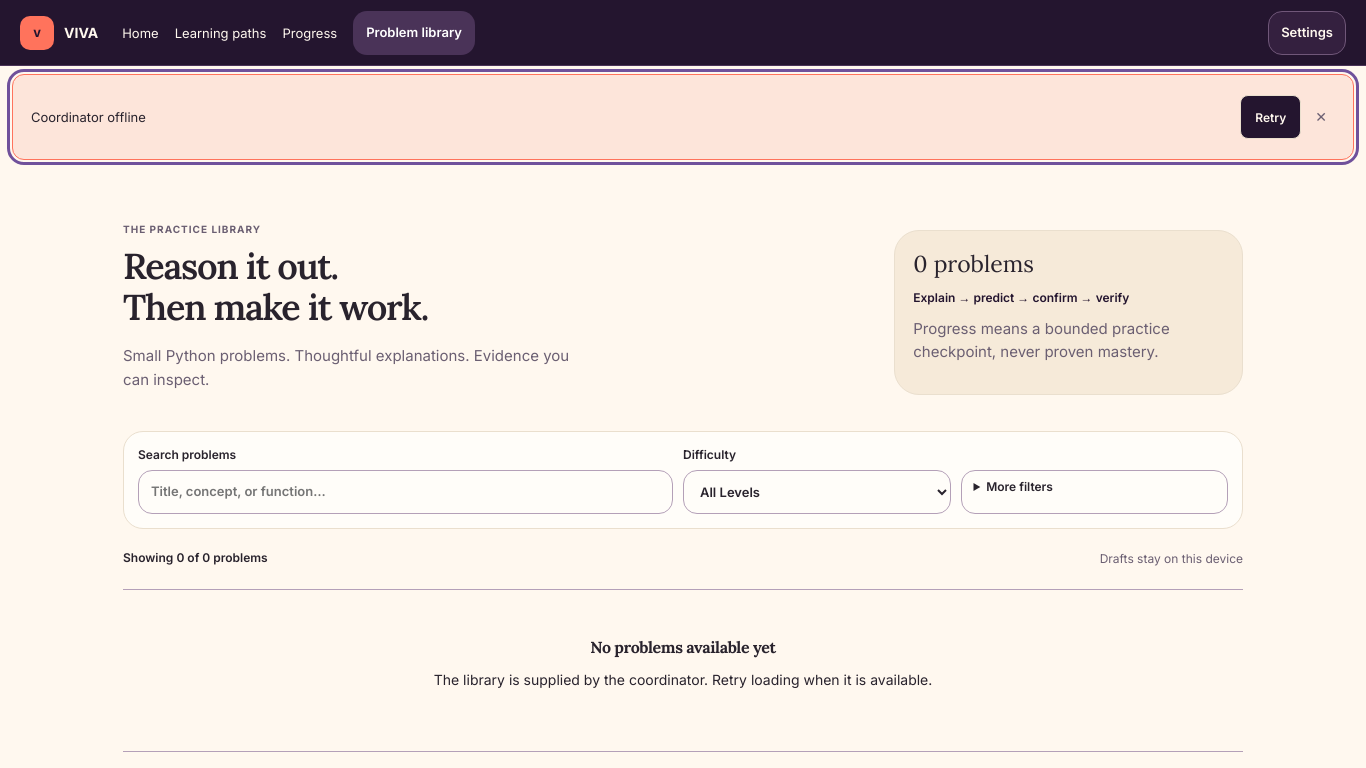
Test case: Integrated workbench › loads configurable branding and recovers after metadata failure
Later steps or results of the test are not shown.
Expected: the message shows "Coordinator offline", [31,109,146,125]
Click the button "Retry" at (1271, 117), box [1240,95,1301,139]
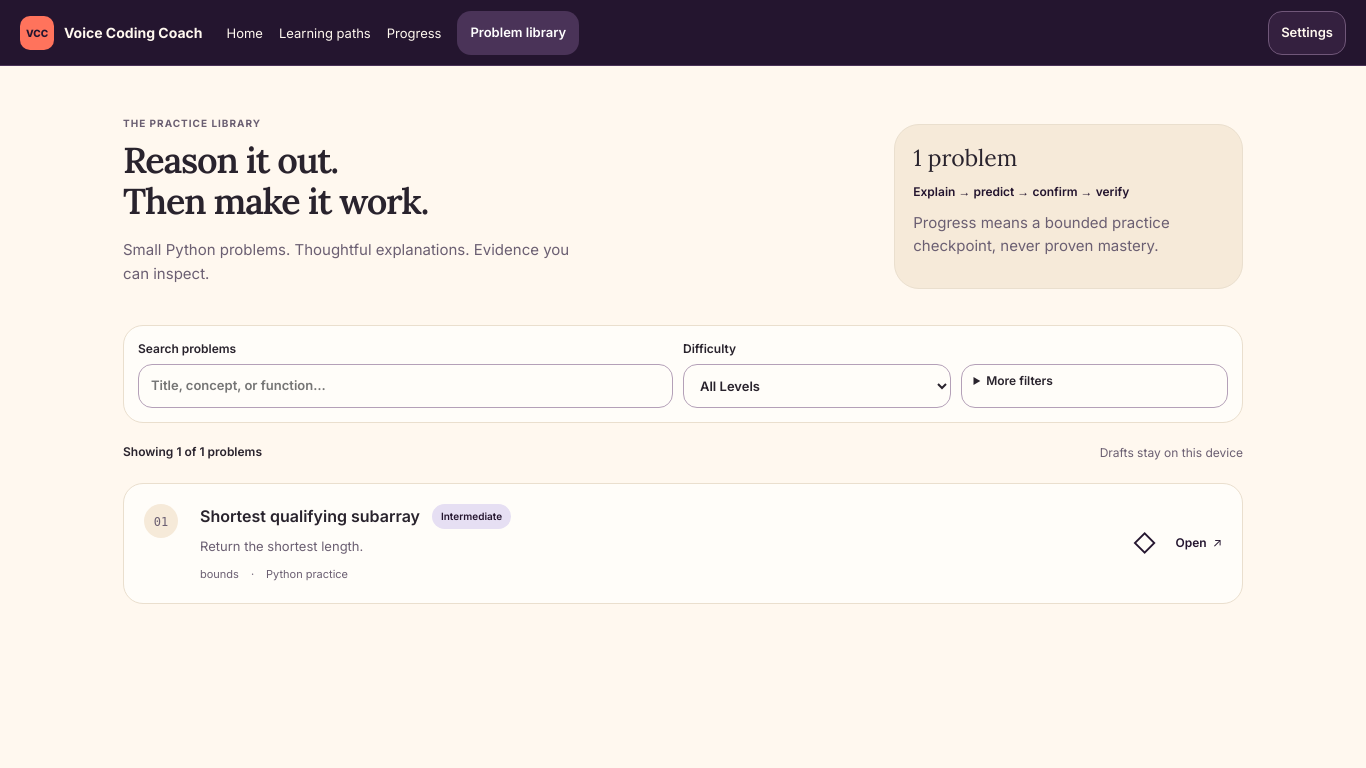
Result: the list item with test id "exercise-card-ex1_shortest_subarray" is shown at [123,483,1243,604]
Result: the text "Voice Coding Coach" is shown at [64,24,202,41]
